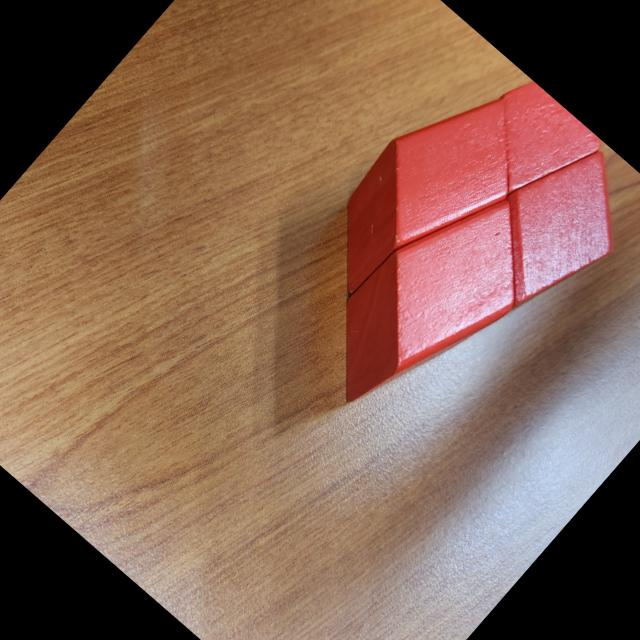red: (296, 164, 564, 446), (296, 61, 554, 333), (454, 124, 640, 334), (454, 71, 605, 221)
